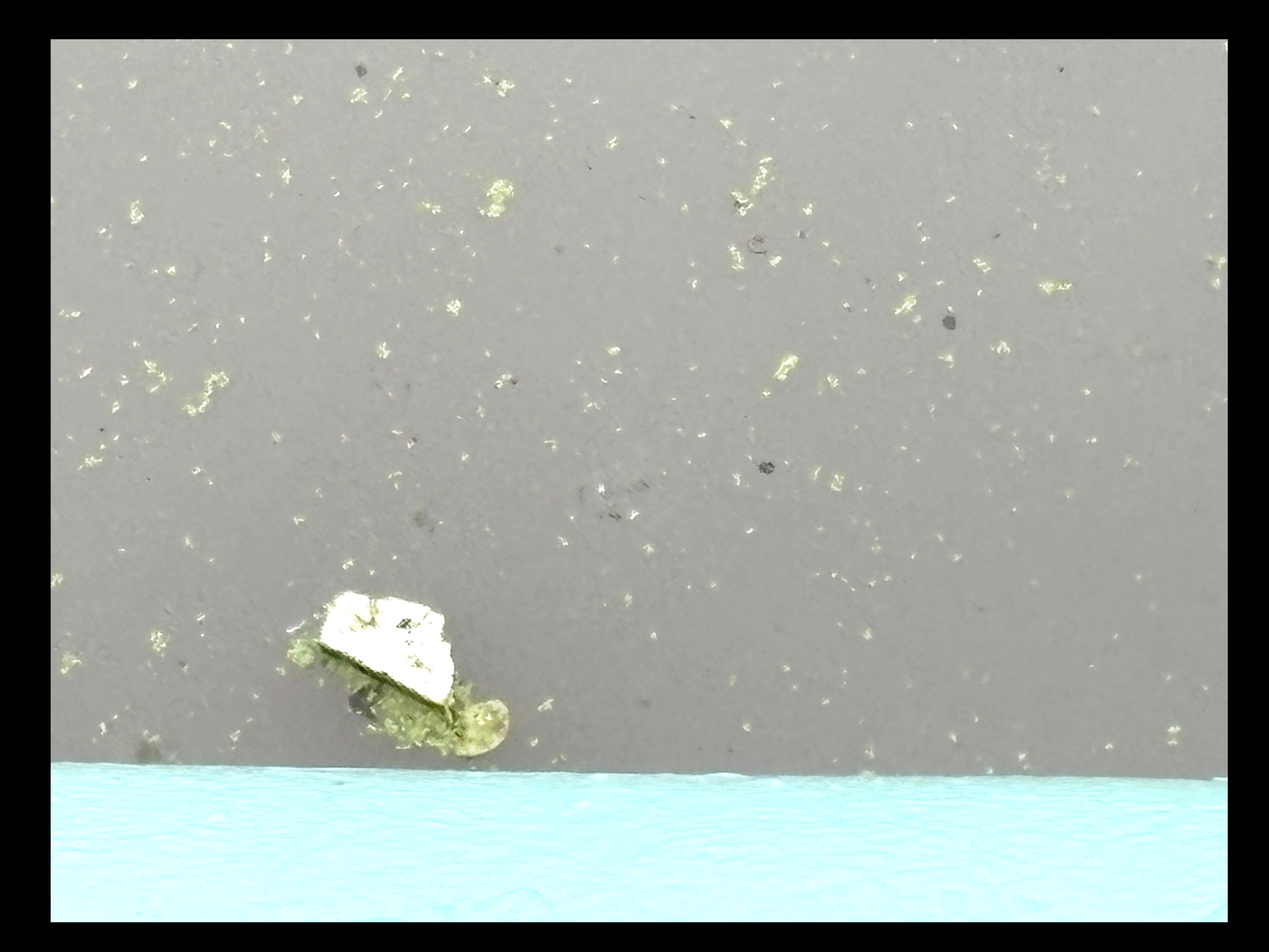Plastic wastes: (311, 585, 463, 719)
